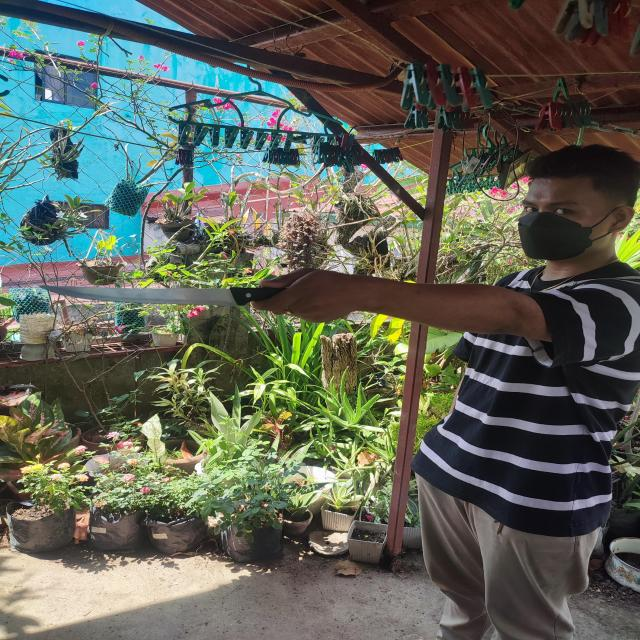knife: (41, 286, 284, 306)
